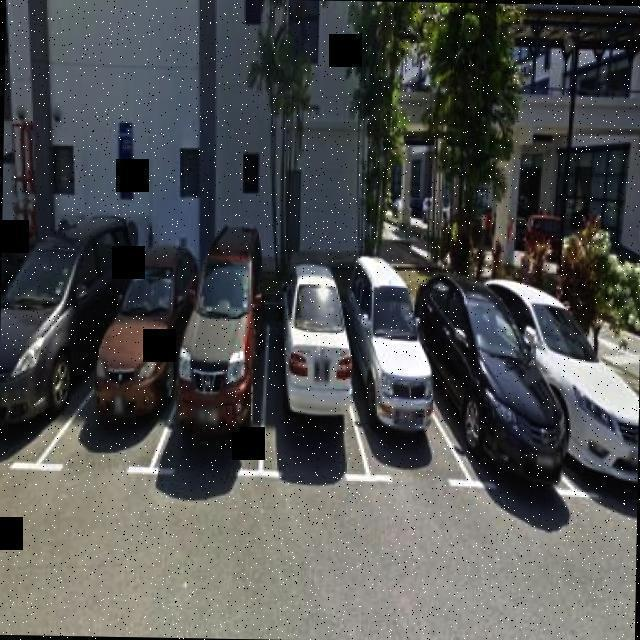space-occupied: (416, 248, 567, 499), (492, 252, 640, 491), (0, 201, 114, 465), (95, 212, 193, 459), (348, 234, 441, 472), (184, 208, 260, 446), (280, 255, 356, 447), (1, 217, 21, 301)
